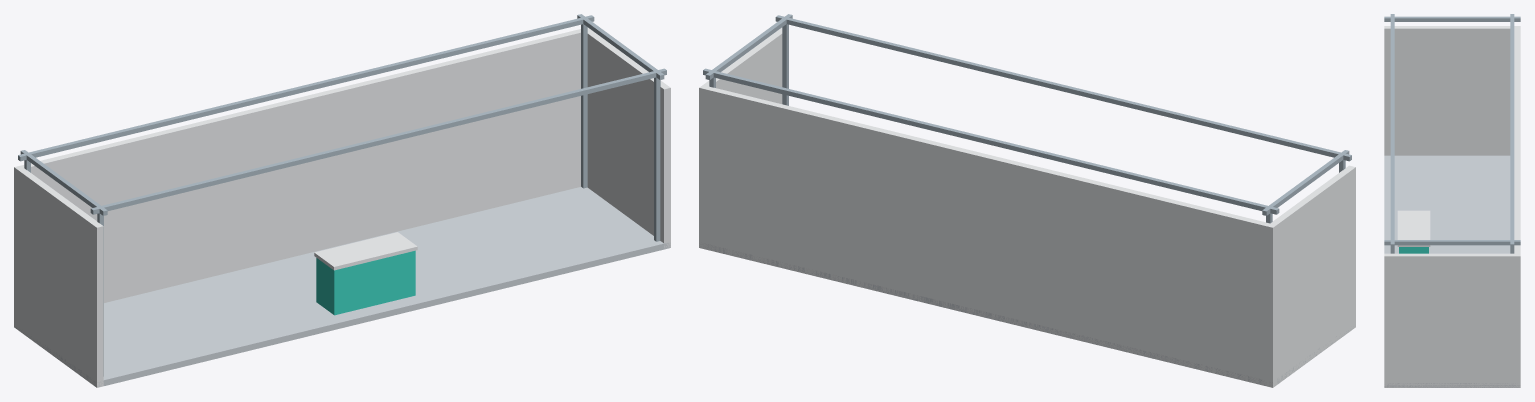
3 renders of one model, left to right at view 1: azimuth 30°, elevation 25°; view 2: azimuth 150°, elevation 25°; view 3: azimuth 270°, elevation 25°, orthographic. The views are drawn at different scales.
Parts seen in each view (by area): view 1: Exhibition Booth Concept; view 2: Exhibition Booth Concept; view 3: Exhibition Booth Concept.
Part boxes in pixels (x1=…): Exhibition Booth Concept: x1=14, y1=14, x2=670, y2=387; Exhibition Booth Concept: x1=699, y1=14, x2=1355, y2=387; Exhibition Booth Concept: x1=1384, y1=14, x2=1520, y2=387.
Bounding box in the file's own units: 12 × 3.49 × 3.
